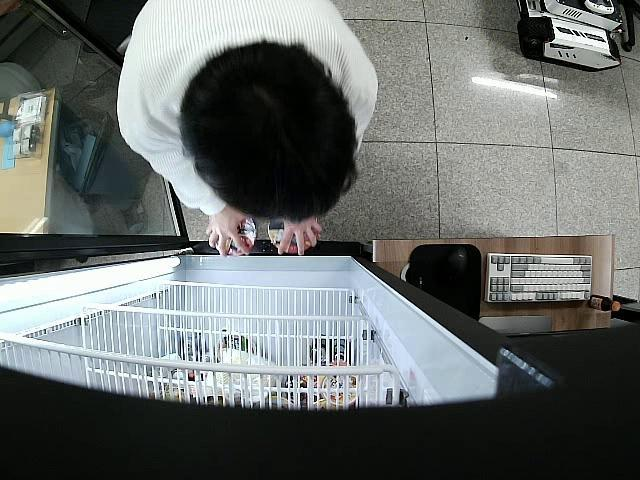07_buldak_L: (268, 214, 313, 254), (222, 215, 258, 254)
